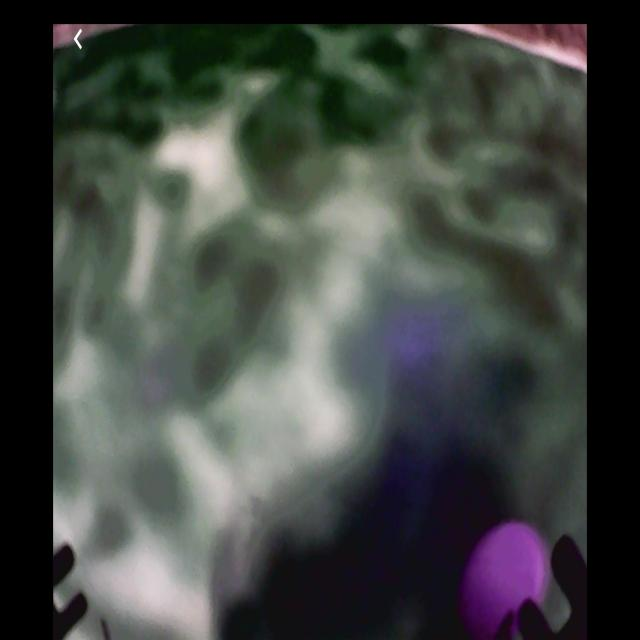ball: (462, 527, 552, 638)
